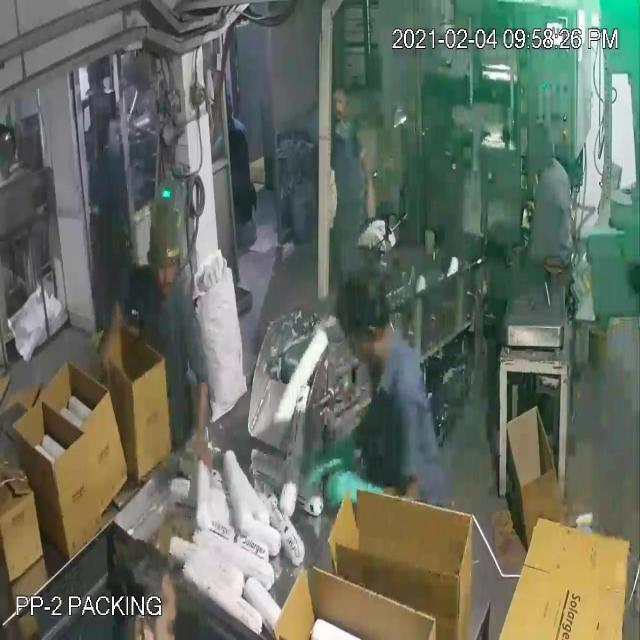No_Gloves: (30, 72, 380, 504)
